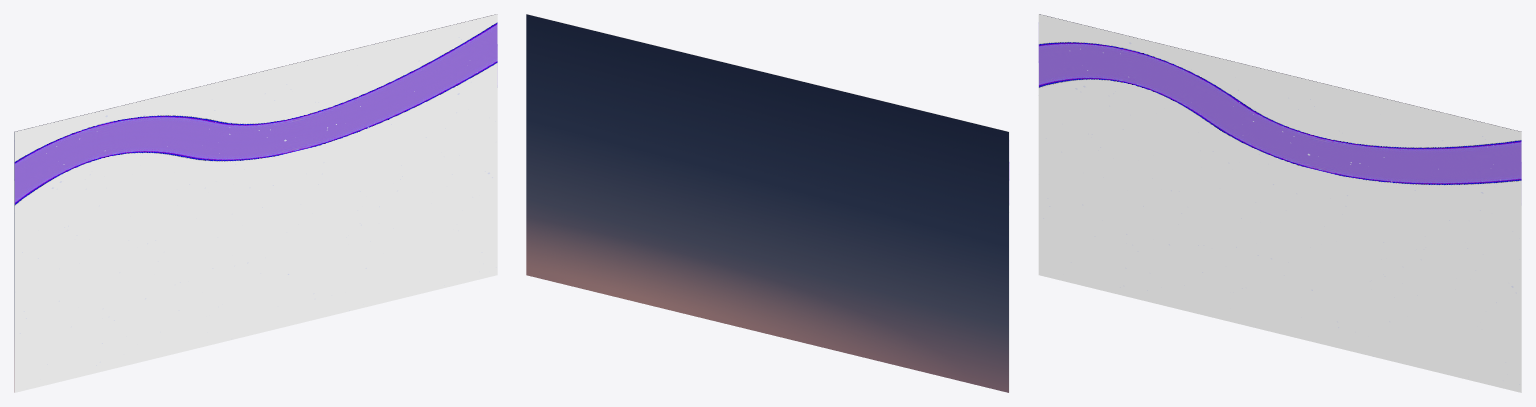
Rendered from village-sky.glb.
3 renders of one model, left to right at view 1: azimuth 30°, elevation 25°; view 2: azimuth 150°, elevation 25°; view 3: azimuth 330°, elevation 25°, orthographic.
Parts seen in each view (by area): view 1: violet-aurora, Sky; view 2: Sky, violet-aurora; view 3: violet-aurora.
Part boxes in pixels (x1,y1,x2,y2): violet-aurora: (14,14,497,392); Sky: (14,14,495,392); Sky: (526,14,1008,392); violet-aurora: (526,14,1009,392); violet-aurora: (1038,14,1521,392).
Size of the model in its own units: 2.4 by 1.24 by 0.004.
Materials: 4 (3 with a texture image).
